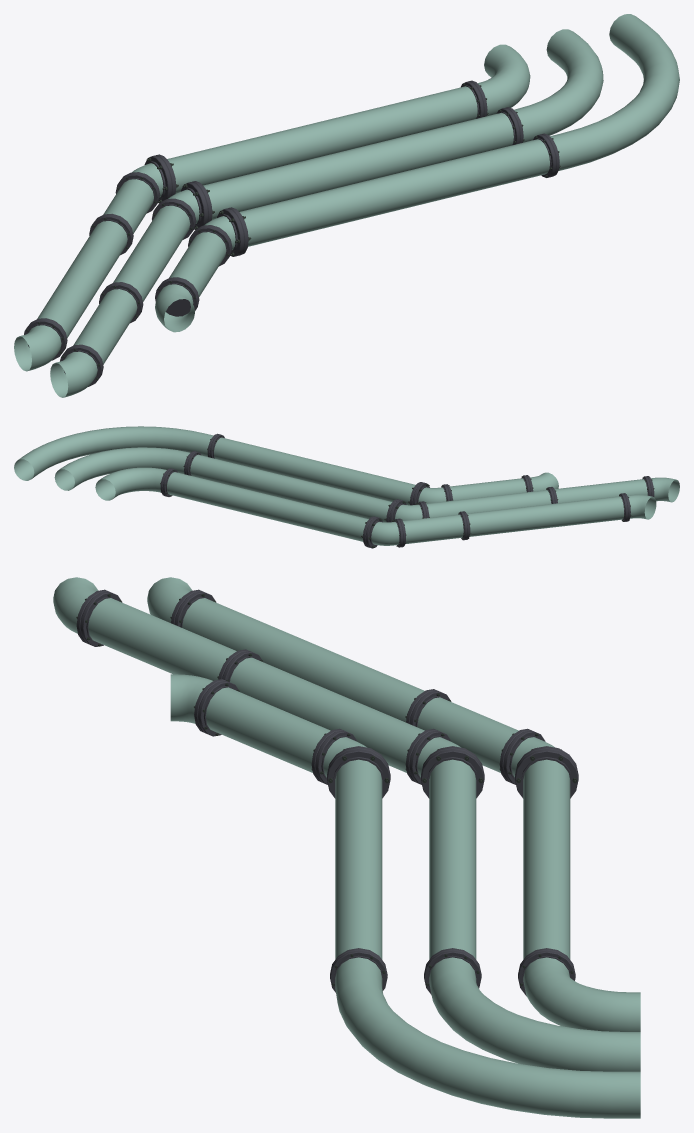
File: PipeComplexLarge_A2_18.fbx
3 views of the same model, one above another, from view 1: azimuth 30°, elevation 25°; view 2: azimuth 150°, elevation 25°; view 3: azimuth 270°, elevation 25° (orthographic). The views are drawn at different scales.
Visible parts, largest first — view 1: PipeComplexLarge_A2_18.001; view 2: PipeComplexLarge_A2_18.001; view 3: PipeComplexLarge_A2_18.001.
Part boxes in pixels (x1,y1,x2,y2): PipeComplexLarge_A2_18.001: (14, 14, 679, 397); PipeComplexLarge_A2_18.001: (14, 426, 679, 548); PipeComplexLarge_A2_18.001: (53, 577, 640, 1118).
Size of the model in its own units: 5.1 by 0.2712 by 2.5.
